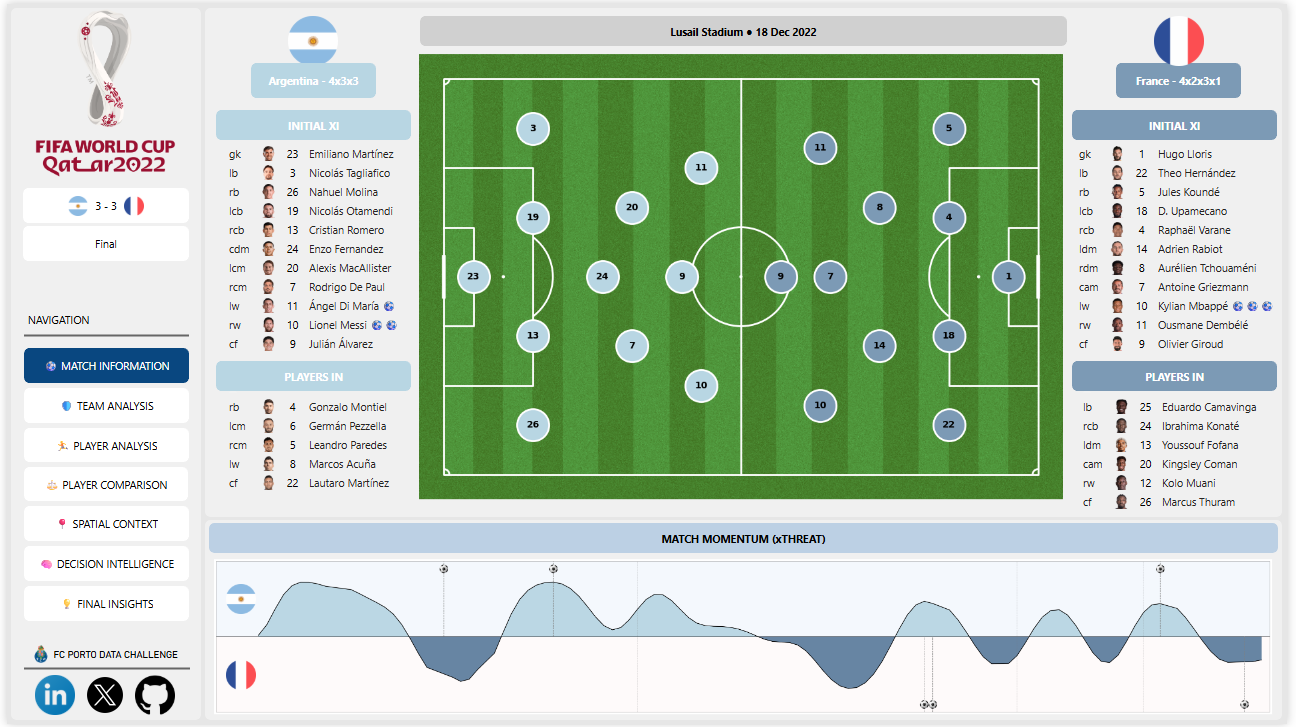

This screenshot's page, from the dashboard's own definition file:
{"tool":"powerbi","page":{"name":"match information","canvas":[1280,720],"ordinal":0},"visuals":[{"type":"shape","box":[4,4,190,712],"z":0},{"type":"image","box":[4,4,189,170],"z":1000},{"type":"actionButton","title":"Botão Ativo Acumulado","box":[16,184,166,35],"z":2000},{"type":"actionButton","title":"Botão Ativo Acumulado","box":[16,222,166,35],"z":3000},{"type":"actionButton","title":"Botão Ativo Acumulado","box":[16.6,344.1,165,35],"z":4000},{"type":"actionButton","title":"Botão Ativo Acumulado","box":[16.7,383.9,165.7,35],"z":5000},{"type":"actionButton","title":"Botão Ativo Acumulado","box":[17,424,165,34],"z":6000},{"type":"actionButton","title":"Botão Ativo Acumulado","box":[17,463,164,34],"z":7000},{"type":"actionButton","title":"Botão Ativo Acumulado","box":[17,502,165,35],"z":8000},{"type":"shape","box":[16.6,302,165.6,58.9],"z":9000},{"type":"actionButton","title":"Botão Ativo Acumulado","box":[10.1,300,83,30],"z":10000},{"type":"actionButton","title":"Botão Ativo Acumulado","box":[17,542,165,35],"z":11000},{"type":"actionButton","title":"Botão Ativo Acumulado","box":[17,582,165,35],"z":12000},{"type":"shape","box":[17,635,166,59],"z":13000},{"type":"image","box":[28.4,671,40,40],"z":14000},{"type":"image","box":[128.4,671,40,40],"z":15000},{"type":"image","box":[78.4,671,40,40],"z":16000},{"type":"shape","box":[198,516,1077,200],"z":17000},{"type":"shape","box":[198,4,1077,509],"z":18000},{"type":"image","box":[117,192,20,20],"z":19000},{"type":"image","box":[61,192,20,20],"z":20000},{"type":"actionButton","title":"Botão Ativo Acumulado","box":[202,519,1069,30],"z":21000},{"type":"pythonVisual","fields":{"Values":["dim_players.jersey_number","dim_players.team","dim_players.y","dim_players.x","dim_players.starter"]},"box":[197,18,1074,509],"z":22000},{"type":"actionButton","title":"Botão Ativo Acumulado","box":[1109,59,125,35],"z":23000},{"type":"image","box":[1147,12,50,50],"z":24000},{"type":"image","box":[281,12,50,50],"z":25000},{"type":"tableEx","title":"tabela","fields":{"Values":["dim_players.position_abv","dim_players.player_photo","dim_players.jersey_number","dim_players.player_name_goals"]},"box":[211,109,203,262],"z":26000},{"type":"actionButton","title":"Botão Ativo Acumulado","box":[244,59,125,35],"z":27000},{"type":"actionButton","title":"Botão Ativo Acumulado","box":[209,106,195,30],"z":28000},{"type":"tableEx","title":"tabela","fields":{"Values":["dim_players.position_abv","dim_players.player_photo","dim_players.jersey_number","dim_players.player_nickname"]},"box":[211,362,202,151],"z":29000},{"type":"actionButton","title":"Botão Ativo Acumulado","box":[209,357,195,30],"z":30000},{"type":"tableEx","title":"tabela","fields":{"Values":["dim_players.position_abv","dim_players.player_photo","dim_players.jersey_number","dim_players.player_name_goals"]},"box":[1061,109,218,262],"z":31000},{"type":"actionButton","title":"Botão Ativo Acumulado","box":[1065,106,205,30],"z":32000},{"type":"tableEx","title":"tabela","fields":{"Values":["dim_players.position_abv","dim_players.player_photo","dim_players.jersey_number","dim_players.player_name_upmecano"]},"box":[1065,362,205,151],"z":33000},{"type":"actionButton","title":"Botão Ativo Acumulado","box":[1065,357,205,30],"z":34000},{"type":"actionButton","title":"Botão Ativo Acumulado","box":[413,12,647,30],"z":35000},{"type":"pythonVisual","fields":{"Values":["fct_events.location_x","fct_events.location_y","fct_events.pass_end_x","fct_events.pass_end_y","fct_events.minute","fct_events.match_half","fct_events.team","fct_events.shot_outcome","fct_events.type"]},"box":[202,549,1068,167],"z":36000},{"type":"image","box":[219,580,30,30],"z":37000},{"type":"image","box":[219,656,30,30],"z":38000},{"type":"actionButton","title":"Botão Ativo Acumulado","box":[37,635,143,30],"z":39000},{"type":"image","box":[25,641,18,18],"z":40000}]}

Visuals, with their boxes in screenshot pixels (x1, y1, x2, y2), scaled from the page's 1280x720 canvas onto the 1296x727 screenshot:
shape: l=4, t=4, r=196, b=723
image: l=4, t=4, r=195, b=176
"Botão Ativo Acumulado" actionButton: l=16, t=186, r=184, b=221
"Botão Ativo Acumulado" actionButton: l=16, t=224, r=184, b=259
"Botão Ativo Acumulado" actionButton: l=17, t=347, r=184, b=383
"Botão Ativo Acumulado" actionButton: l=17, t=388, r=185, b=423
"Botão Ativo Acumulado" actionButton: l=17, t=428, r=184, b=462
"Botão Ativo Acumulado" actionButton: l=17, t=468, r=183, b=502
"Botão Ativo Acumulado" actionButton: l=17, t=507, r=184, b=542
shape: l=17, t=305, r=184, b=364
"Botão Ativo Acumulado" actionButton: l=10, t=303, r=94, b=333
"Botão Ativo Acumulado" actionButton: l=17, t=547, r=184, b=583
"Botão Ativo Acumulado" actionButton: l=17, t=588, r=184, b=623
shape: l=17, t=641, r=185, b=701
image: l=29, t=678, r=69, b=718
image: l=130, t=678, r=171, b=718
image: l=79, t=678, r=120, b=718
shape: l=200, t=521, r=1291, b=723
shape: l=200, t=4, r=1291, b=518
image: l=118, t=194, r=139, b=214
image: l=62, t=194, r=82, b=214
"Botão Ativo Acumulado" actionButton: l=205, t=524, r=1287, b=554
pythonVisual - dim_players.jersey_number x dim_players.team: l=199, t=18, r=1287, b=532
"Botão Ativo Acumulado" actionButton: l=1123, t=60, r=1249, b=95
image: l=1161, t=12, r=1212, b=63
image: l=285, t=12, r=335, b=63
"tabela" tableEx: l=214, t=110, r=419, b=375
"Botão Ativo Acumulado" actionButton: l=247, t=60, r=374, b=95
"Botão Ativo Acumulado" actionButton: l=212, t=107, r=409, b=137
"tabela" tableEx: l=214, t=366, r=418, b=518
"Botão Ativo Acumulado" actionButton: l=212, t=360, r=409, b=391
"tabela" tableEx: l=1074, t=110, r=1295, b=375
"Botão Ativo Acumulado" actionButton: l=1078, t=107, r=1286, b=137
"tabela" tableEx: l=1078, t=366, r=1286, b=518
"Botão Ativo Acumulado" actionButton: l=1078, t=360, r=1286, b=391
"Botão Ativo Acumulado" actionButton: l=418, t=12, r=1073, b=42
pythonVisual - fct_events.location_x x fct_events.location_y: l=205, t=554, r=1286, b=723
image: l=222, t=586, r=252, b=616
image: l=222, t=662, r=252, b=693
"Botão Ativo Acumulado" actionButton: l=37, t=641, r=182, b=671
image: l=25, t=647, r=44, b=665
